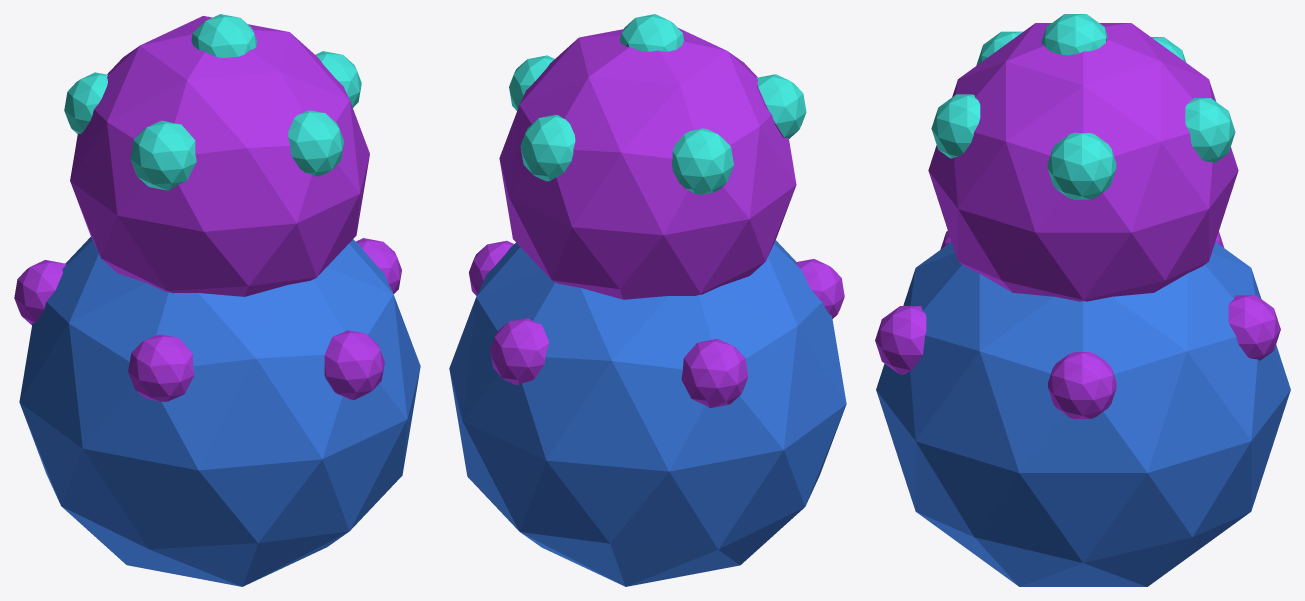
The model's file is plant3.fbx.
3 views of the same model, side by side, from view 1: azimuth 30°, elevation 25°; view 2: azimuth 150°, elevation 25°; view 3: azimuth 270°, elevation 25° (orthographic). The views are drawn at different scales.
Visible parts, largest first — view 1: Icosphere.001; view 2: Icosphere.001; view 3: Icosphere.001.
Boxes of the visible parts, x1=… form: Icosphere.001: x1=14, y1=14, x2=420, y2=586; Icosphere.001: x1=449, y1=14, x2=846, y2=586; Icosphere.001: x1=875, y1=14, x2=1290, y2=586.
Bounding box in the file's own units: 484 × 746 × 500.
